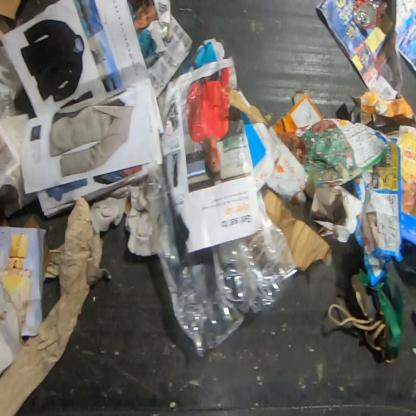cardboard: (350, 129, 416, 287), (262, 188, 334, 272), (304, 177, 363, 243), (349, 89, 415, 129), (267, 89, 324, 135), (218, 84, 274, 127), (0, 0, 23, 35)
rigid_plastic: (144, 158, 300, 358)
